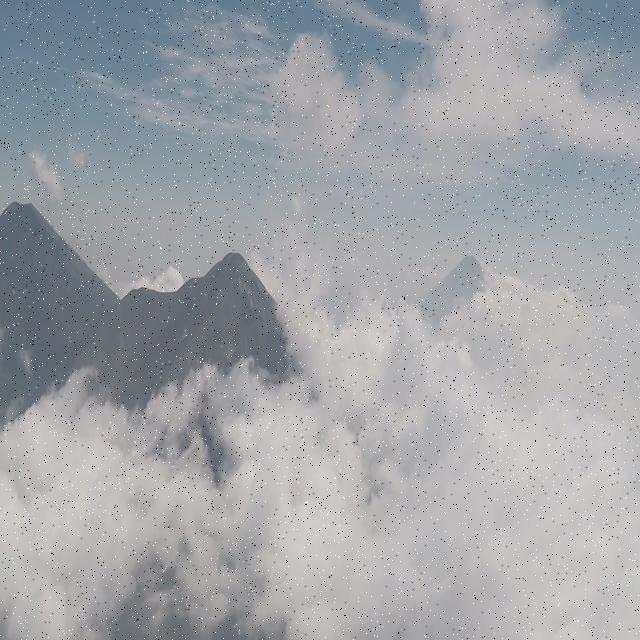Summit: (176, 244, 274, 302)
